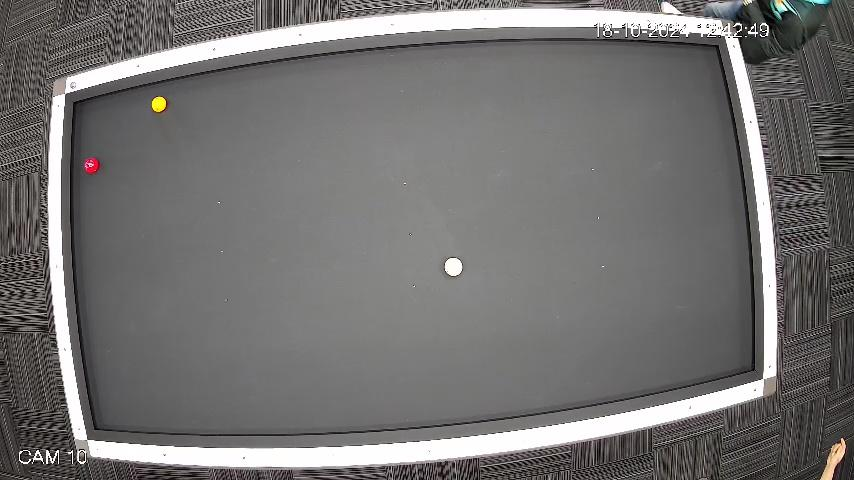Red: (82, 156, 99, 174)
White: (443, 256, 464, 278)
Yellow: (150, 95, 168, 113)
